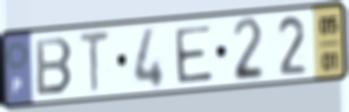2: (230, 15, 267, 86), (275, 13, 309, 77)
4: (131, 25, 167, 92)
B: (34, 35, 76, 98)
E: (172, 22, 215, 86)
T: (77, 28, 113, 97)
